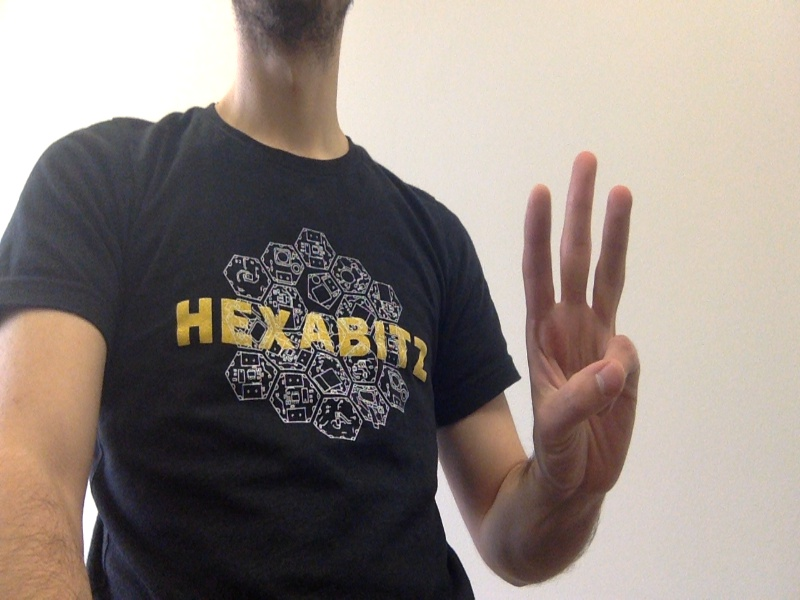3-hand: (523, 151, 641, 491)
